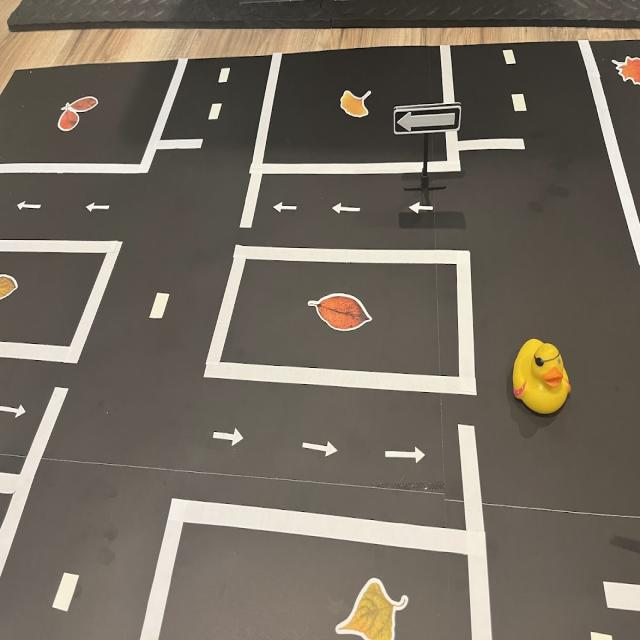duck_specialty: (509, 330, 574, 421)
road_oneway: (301, 436, 342, 462), (212, 423, 247, 452), (385, 445, 429, 468), (1, 399, 29, 423), (331, 198, 363, 218), (271, 198, 301, 218), (409, 196, 436, 216), (16, 198, 43, 215), (84, 199, 112, 214)
sign_oneway_left: (393, 106, 461, 136)
